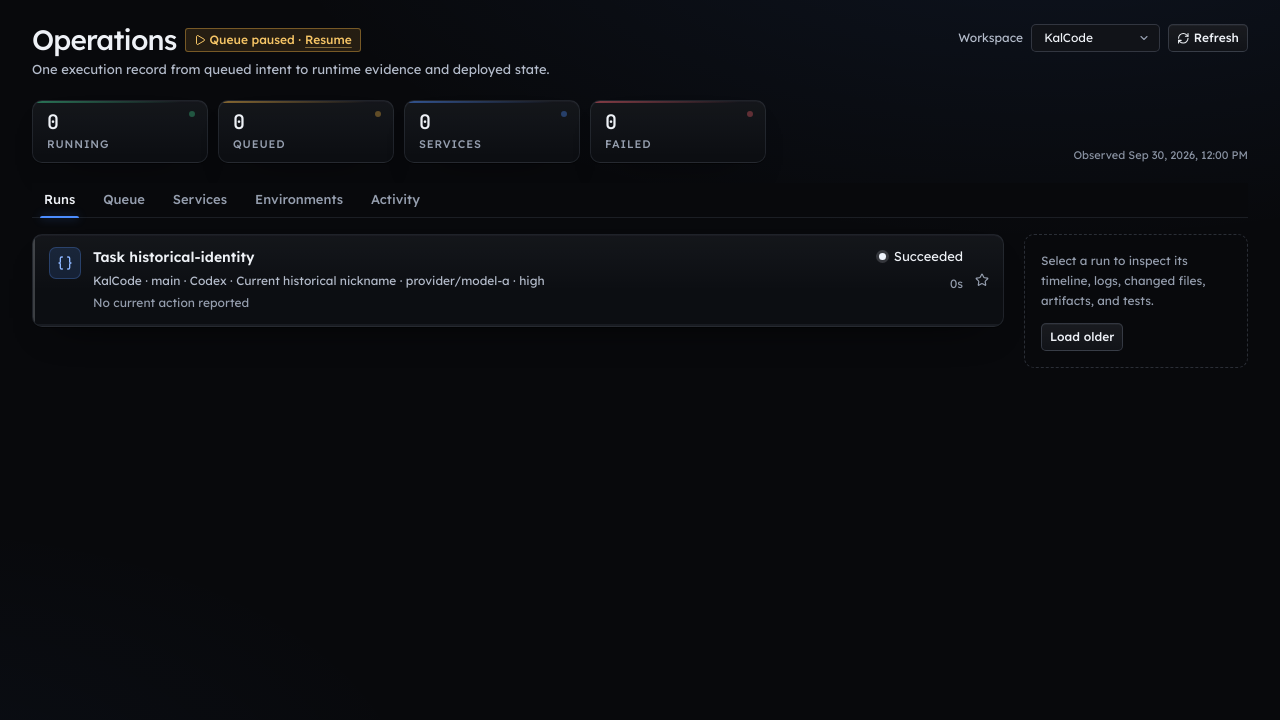
Scenario: OperationsPage › keeps a completed run's observed selector when its thread is reused by a later run
Click the button "Task historical-identity" at (518, 280), box [33, 235, 1003, 325]
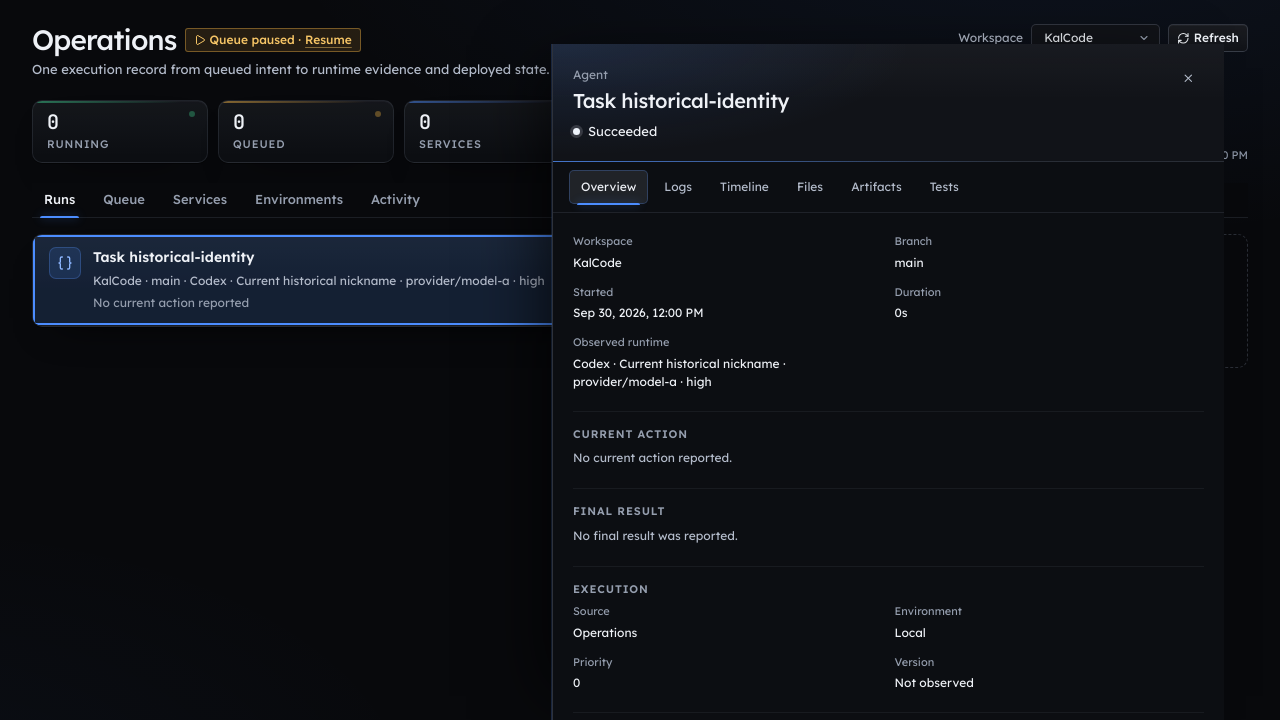
Now the text "Observed runtime" is shown, box [573, 335, 669, 349]
Now the text "Codex · Current historical nickname · provider/model-a · high" is shown, box [573, 356, 786, 389]
